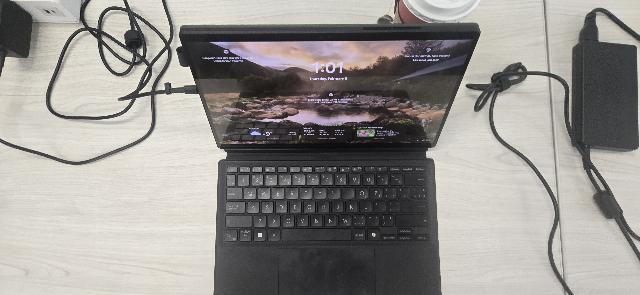Keyboard: (220, 162, 429, 243)
